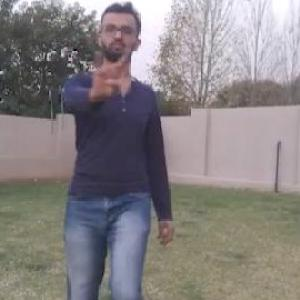takeoff-hand: (81, 40, 130, 101)
